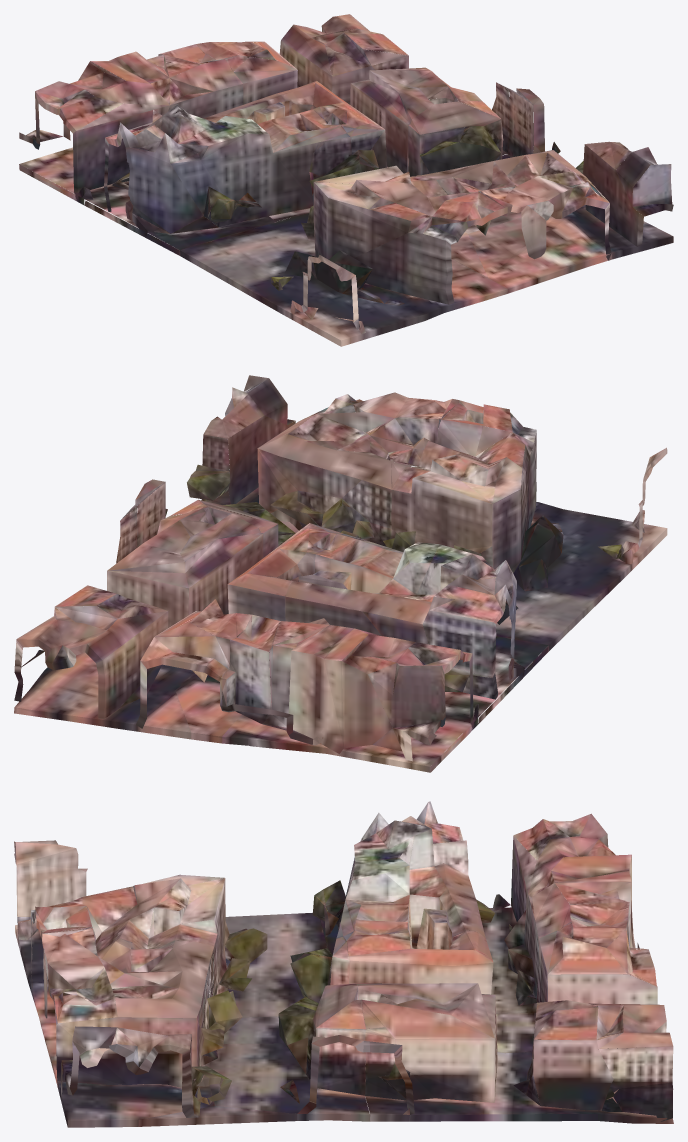
3 views of the same model, one above another, from view 1: azimuth 30°, elevation 25°; view 2: azimuth 150°, elevation 25°; view 3: azimuth 270°, elevation 25° (orthographic). The views are drawn at different scales.
Visible parts, largest first — view 1: Mesh_0; view 2: Mesh_0; view 3: Mesh_0.
Part boxes in pixels (x1=…): Mesh_0: x1=19, y1=14, x2=673, y2=346; Mesh_0: x1=14, y1=375, x2=667, y2=772; Mesh_0: x1=14, y1=801, x2=673, y2=1127.
Size of the model in its own units: 135 by 39.18 by 165.
2 materials, 2 textured.
